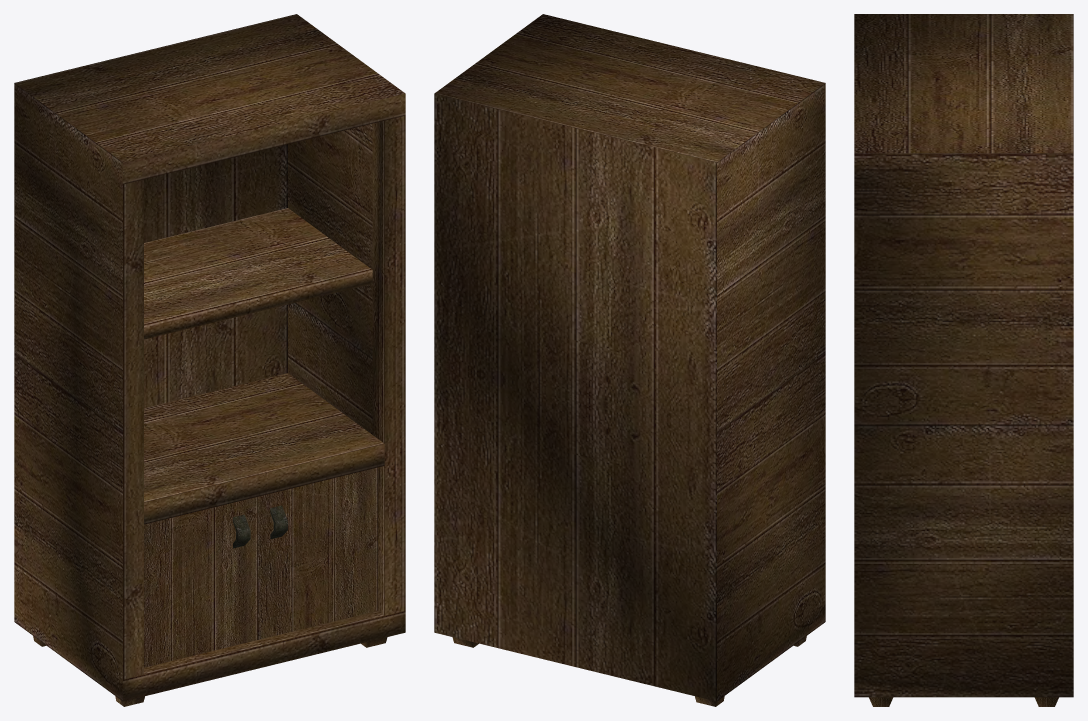
File: GS_FURNITURE_NORMAL_03_DRP.glb
3 views of the same model, side by side, from view 1: azimuth 30°, elevation 25°; view 2: azimuth 150°, elevation 25°; view 3: azimuth 270°, elevation 25° (orthographic).
Visible parts, largest first — view 1: Mesh; view 2: Mesh; view 3: Mesh.
Part boxes in pixels (x1,y1,x2,y2): Mesh: (14,14,405,706); Mesh: (434,14,825,706); Mesh: (854,14,1073,706).
Bounding box in the file's own units: 1.35 × 2.53 × 0.9.
Materials: 2 (2 with a texture image).
